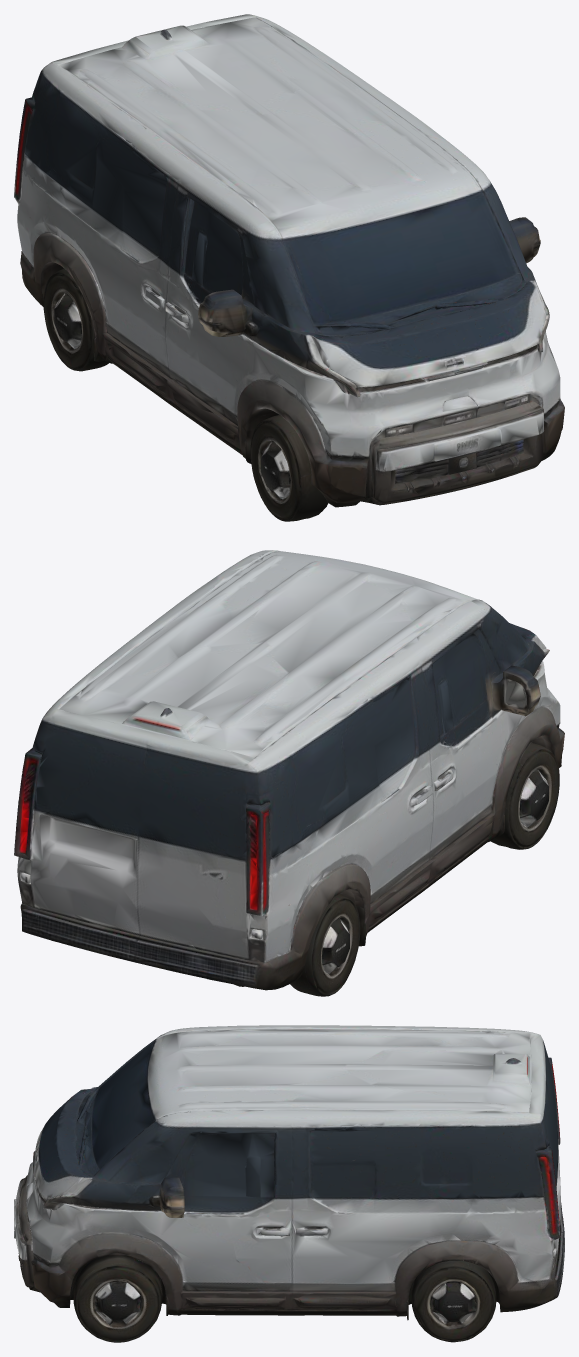
3 views of the same model, one above another, from view 1: azimuth 30°, elevation 25°; view 2: azimuth 150°, elevation 25°; view 3: azimuth 270°, elevation 25° (orthographic). The views are drawn at different scales.
Parts seen in each view (by area): view 1: Object_2; view 2: Object_2; view 3: Object_2.
Boxes of the visible parts, x1,y1,x2,y2 form: Object_2: (14,14,564,521); Object_2: (14,550,564,996); Object_2: (14,1025,564,1342).
Bounding box in the file's own units: 0.6348 × 0.5139 × 1.1.
Materials: 1 (1 with a texture image).
